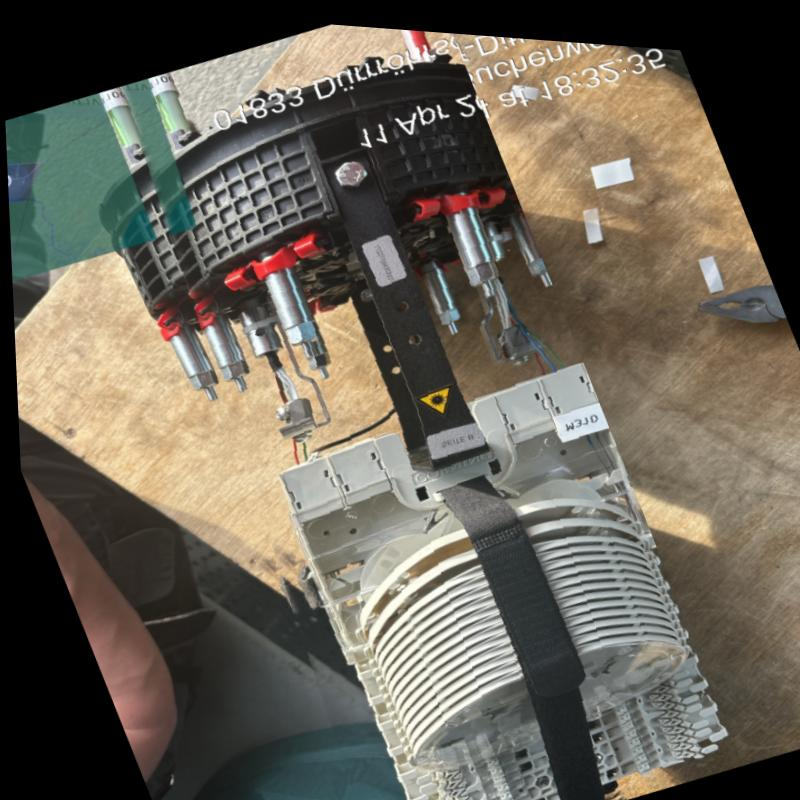NT-Muffen: (67, 4, 739, 800)
